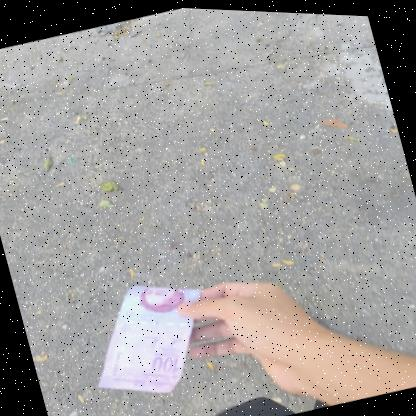one_hundred-front-vef: (73, 263, 227, 410)
